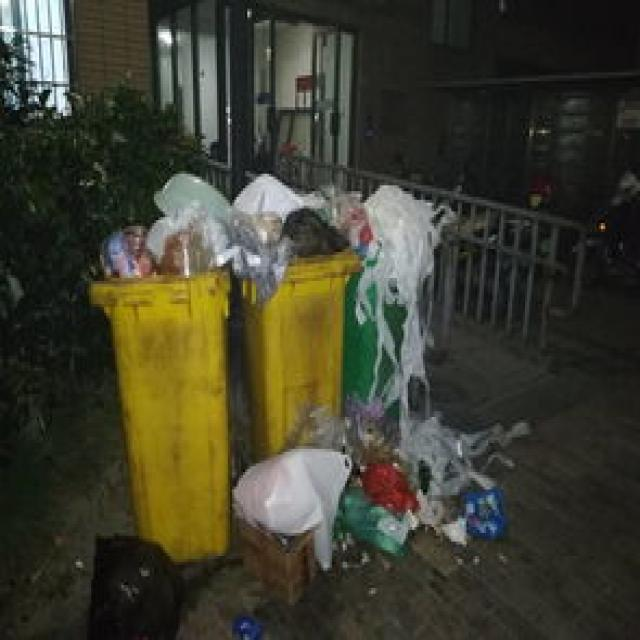garbage: (224, 391, 527, 637), (89, 530, 182, 637)
overflow: (89, 174, 228, 559), (230, 171, 360, 460), (341, 180, 454, 417)
